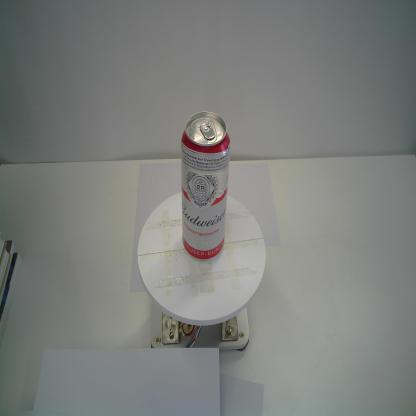Alcohol: (180, 111, 232, 261)
